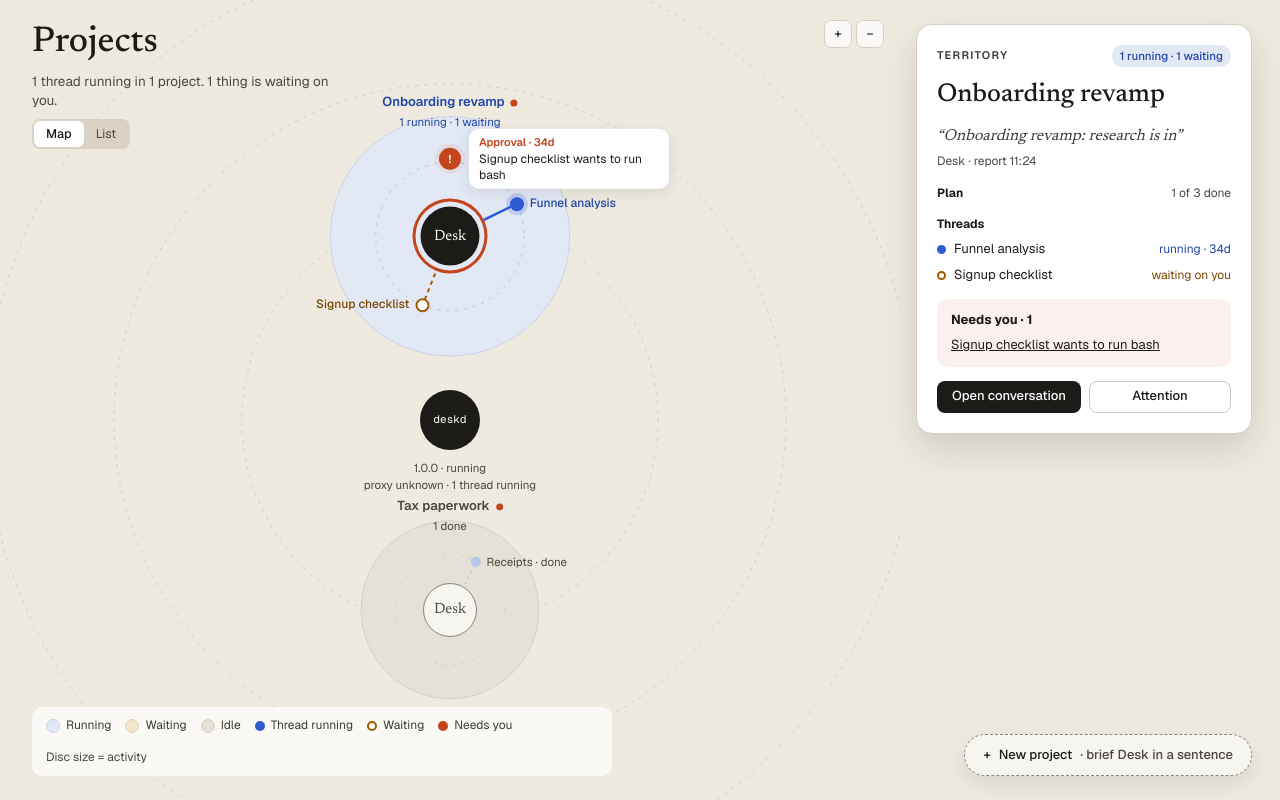
Test: MapScreen › opens the new project sheet
Click the button "+ New project · brief Desk in a sentence". click: (1108, 755)
box: [964, 734, 1252, 776]
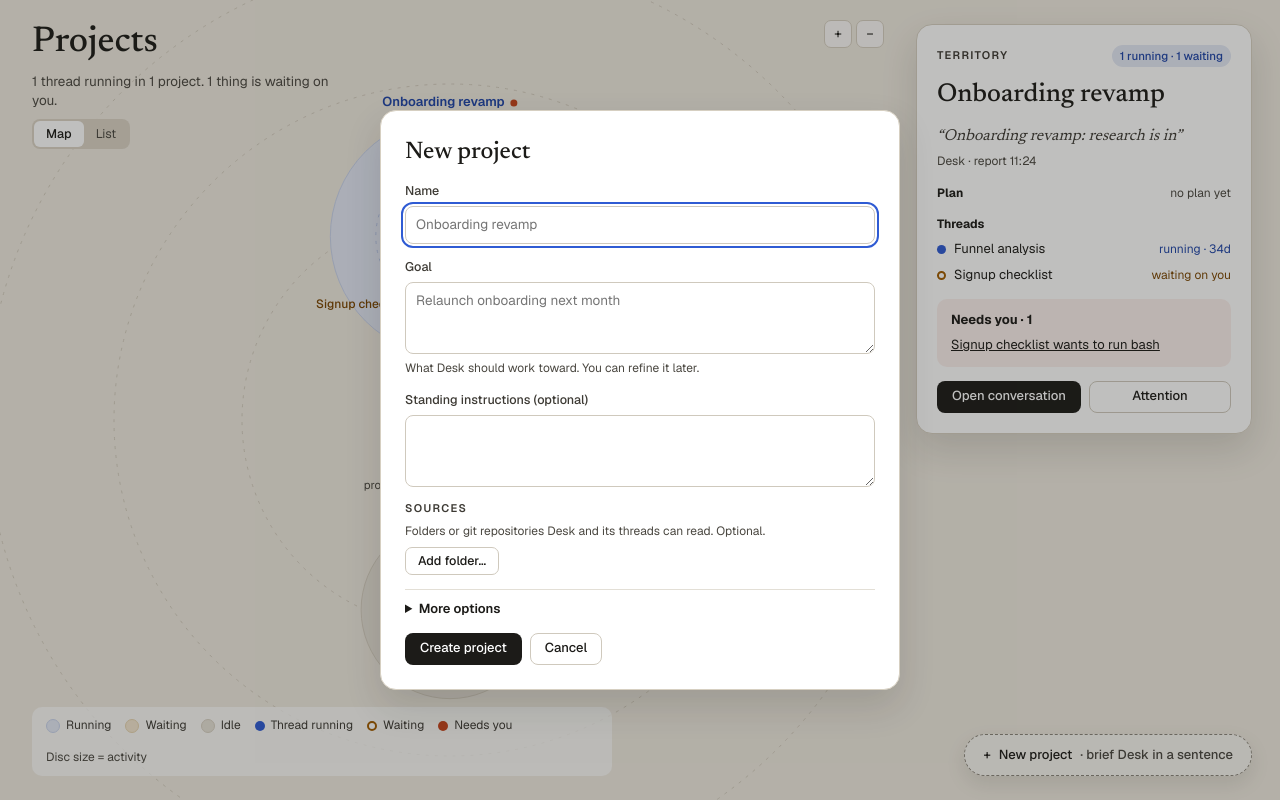
Expected: the dialog "New project" is shown, [380, 110, 900, 690]
